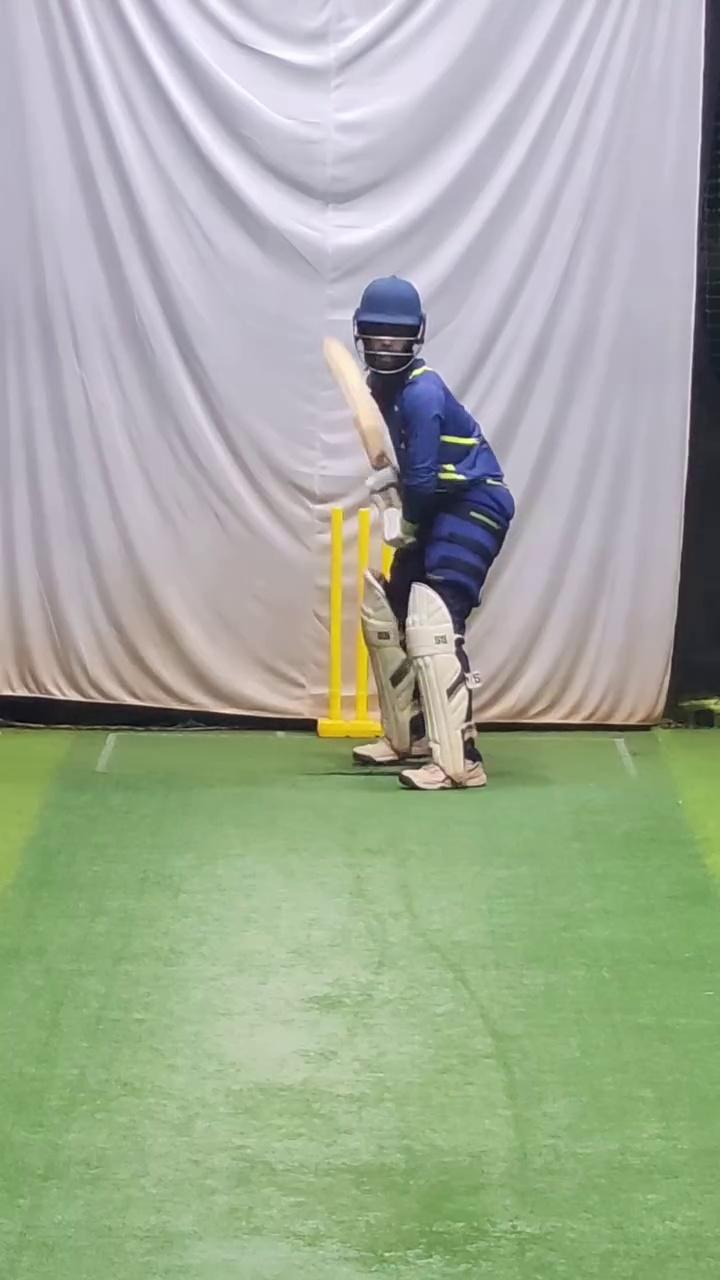bat: (317, 330, 395, 476)
